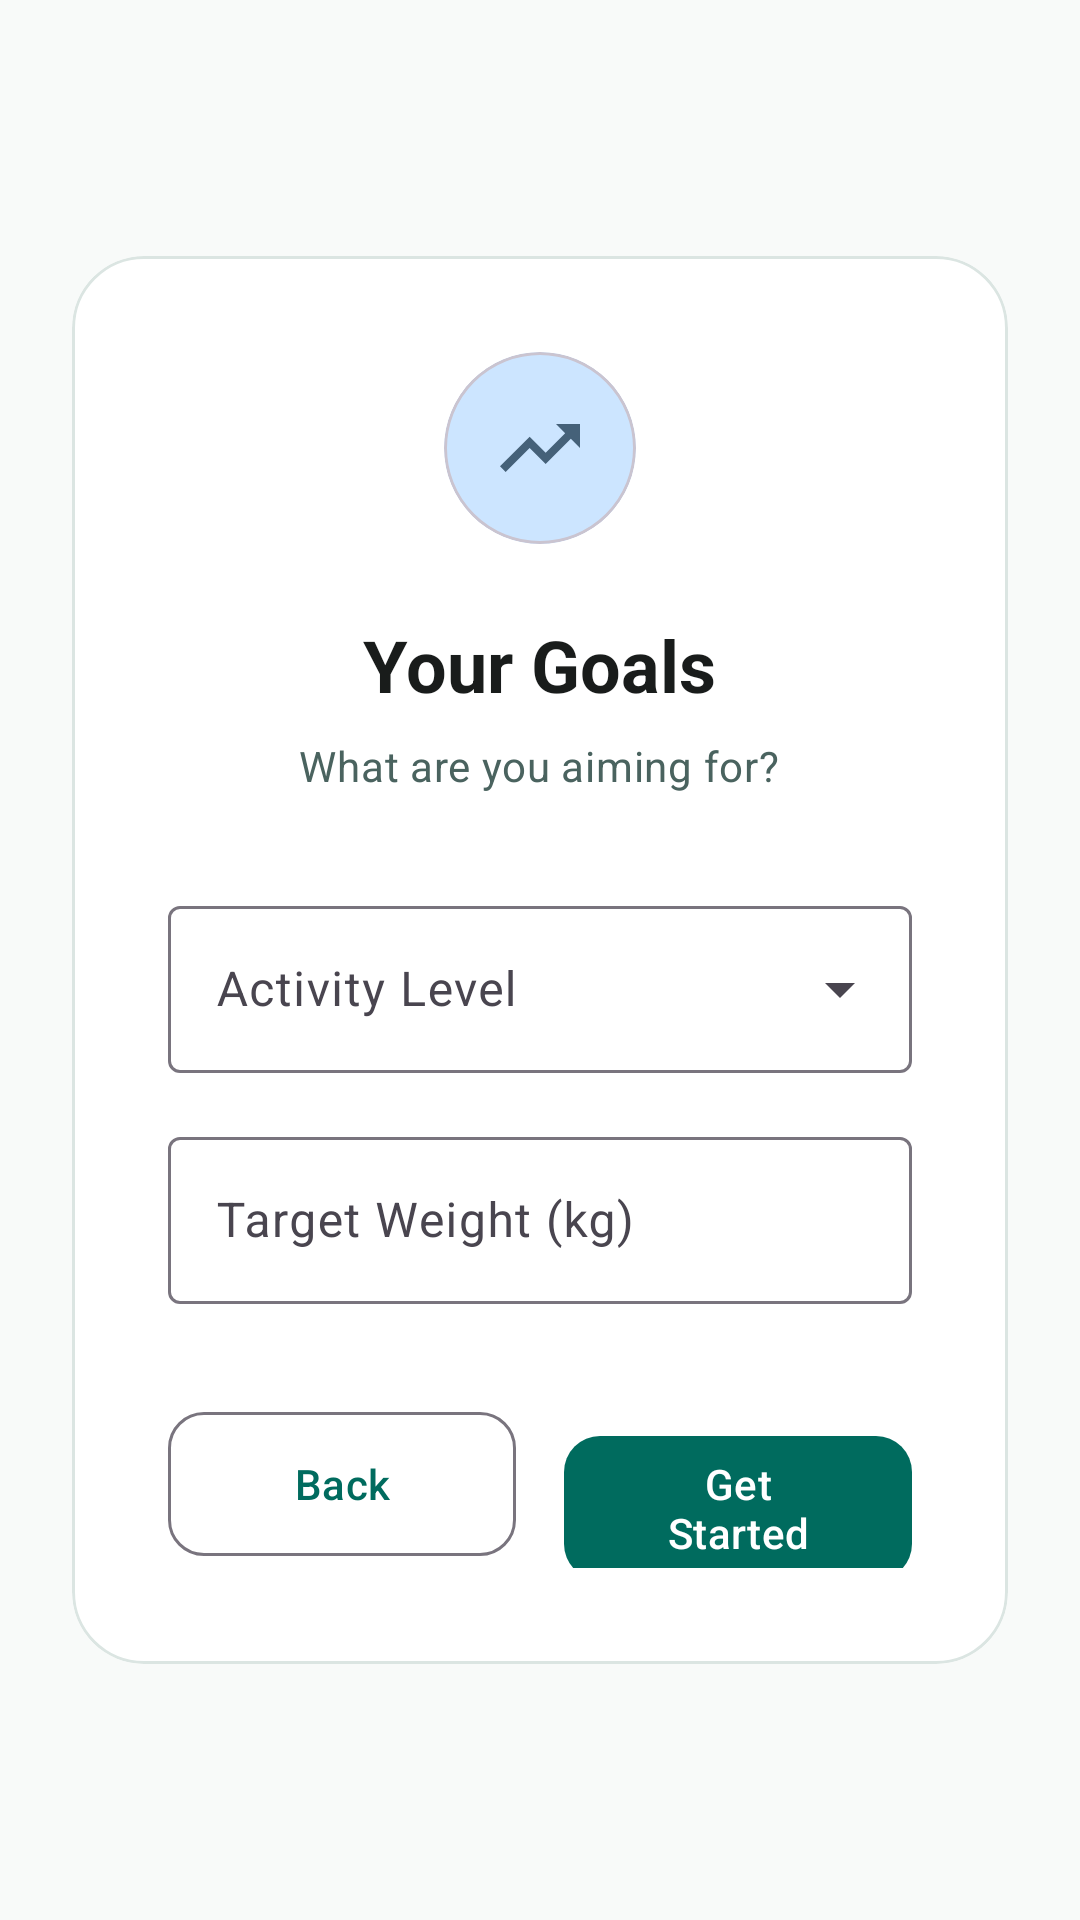

Point at icon controls on the screen. Image size 1080 × 1920, points as (x,y).
stats: (540,448)
